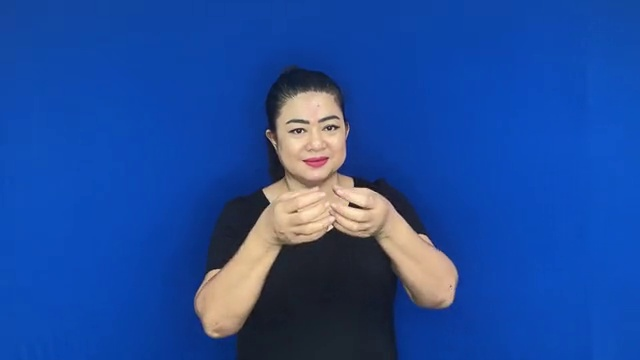egg: (262, 180, 394, 248)
